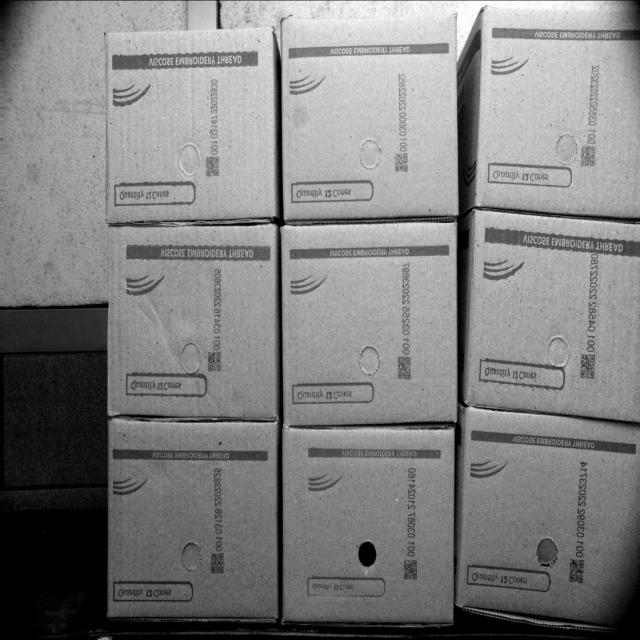cardboxes: (461, 407, 640, 632), (282, 14, 459, 218), (282, 224, 458, 423), (465, 214, 640, 414), (478, 3, 640, 218), (286, 423, 454, 624), (106, 423, 274, 617), (106, 28, 274, 220), (108, 230, 274, 418)
